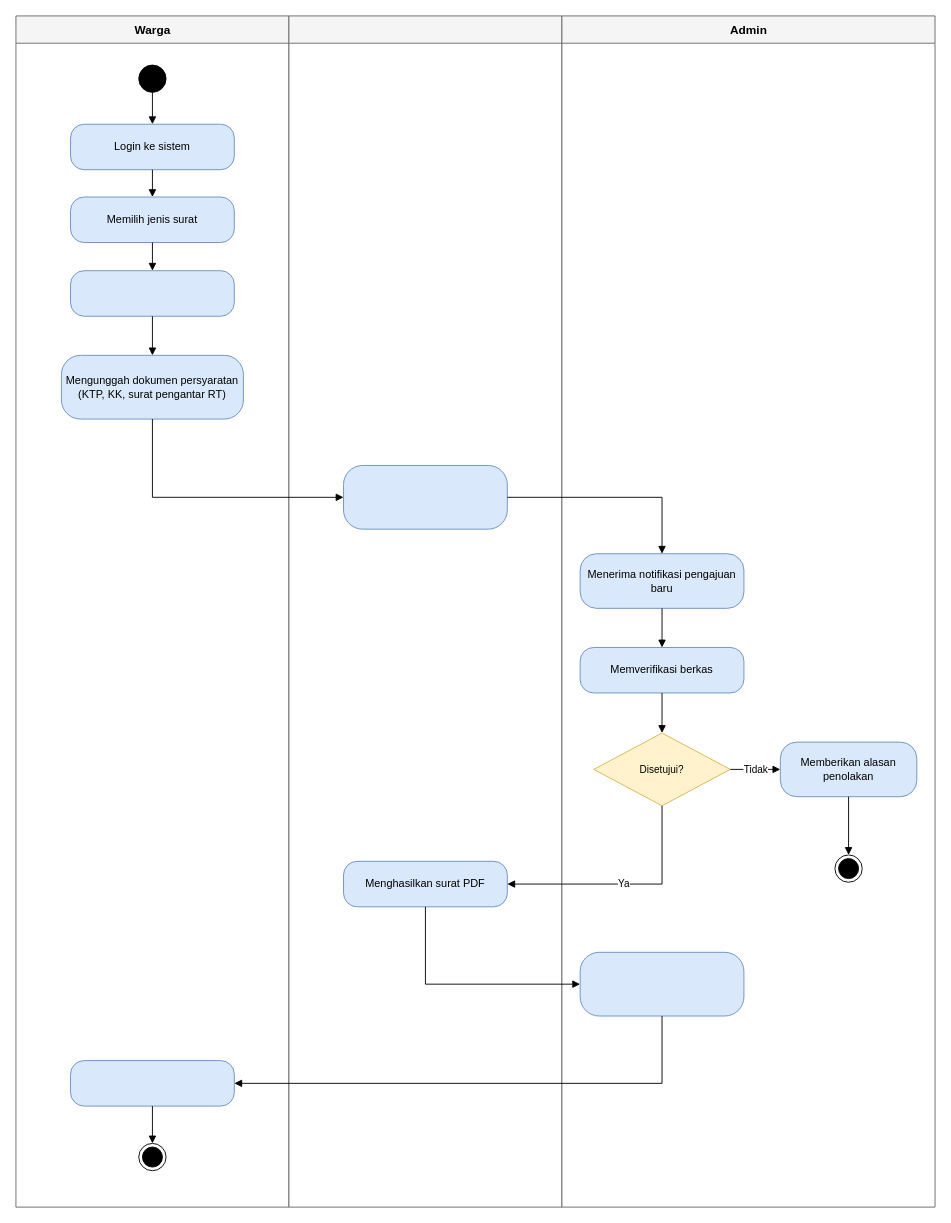
Image size: 951x1223. Some labels were removed from this diagram. Each missing label, with the box of its shape:
Melakukan tanda tangan elektronik dengan QR Code: (579, 951, 744, 1016)
Mengisi form permohonan: (70, 270, 234, 316)
Mengunduh surat PDF: (70, 1060, 234, 1106)
Menyimpan pengajuan dengan status "menunggu": (343, 465, 507, 529)
Sistem: (288, 15, 562, 1207)
